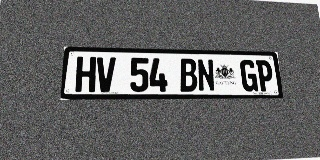4: (149, 58, 168, 92)
5: (130, 58, 149, 92)
B: (179, 59, 198, 92)
G: (240, 60, 258, 92)
H: (75, 57, 96, 92)
N: (197, 59, 215, 92)
P: (256, 60, 274, 91)
V: (96, 57, 116, 92)
